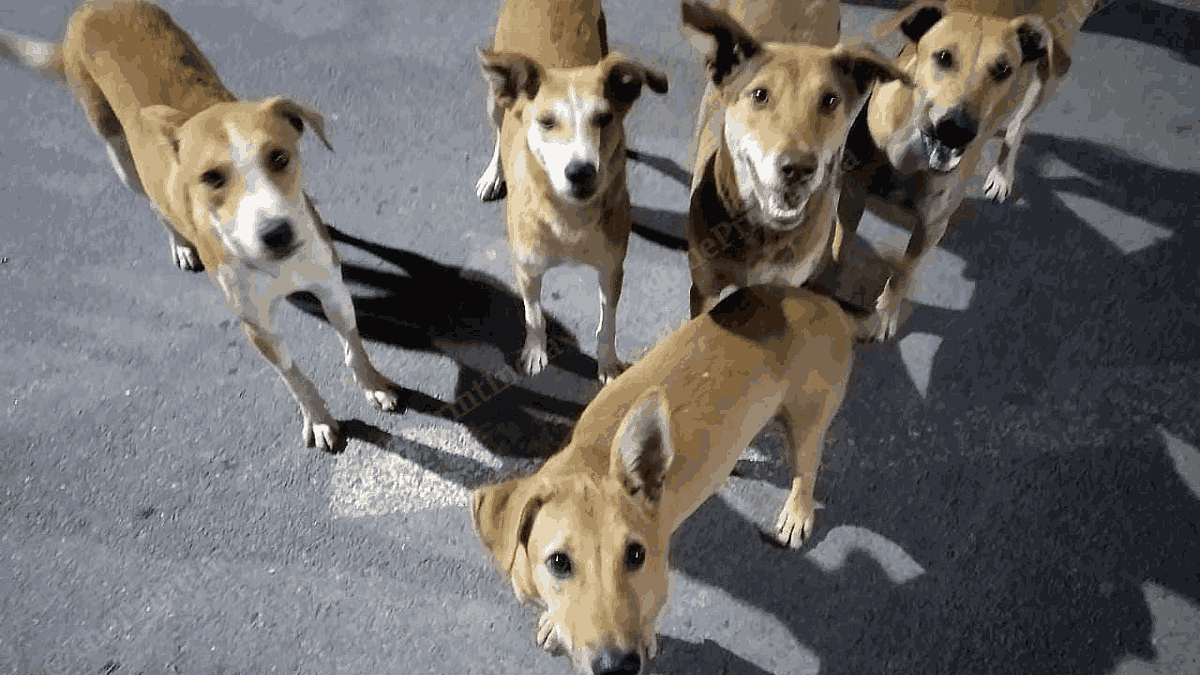Dog: (49, 7, 432, 468), (465, 268, 886, 663)
